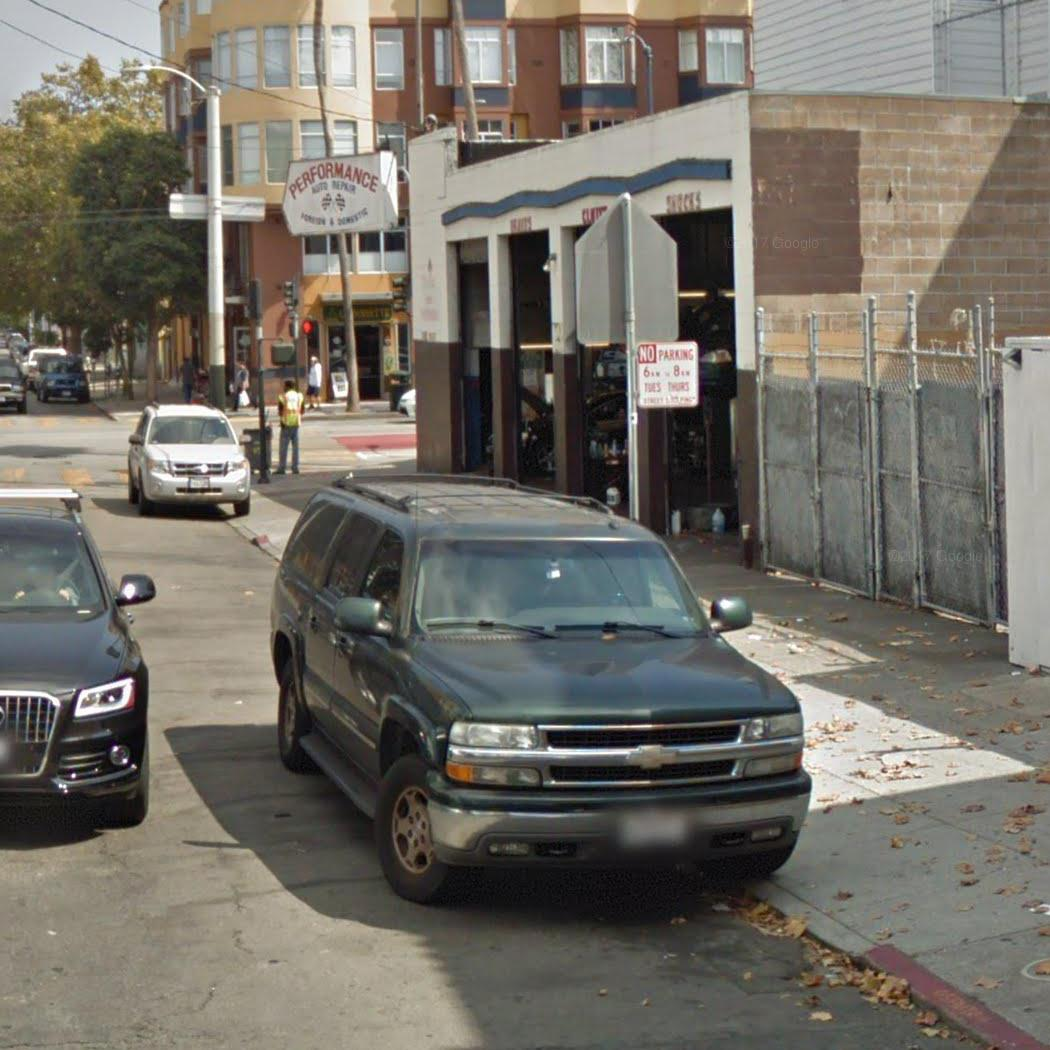No Parking: (633, 338, 701, 411)
